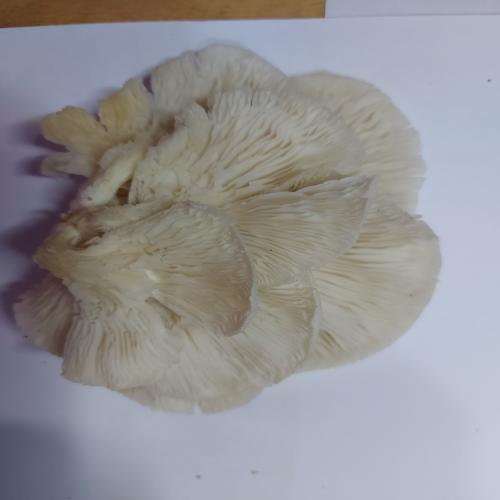Oyster Mushroom: (13, 43, 443, 415)
